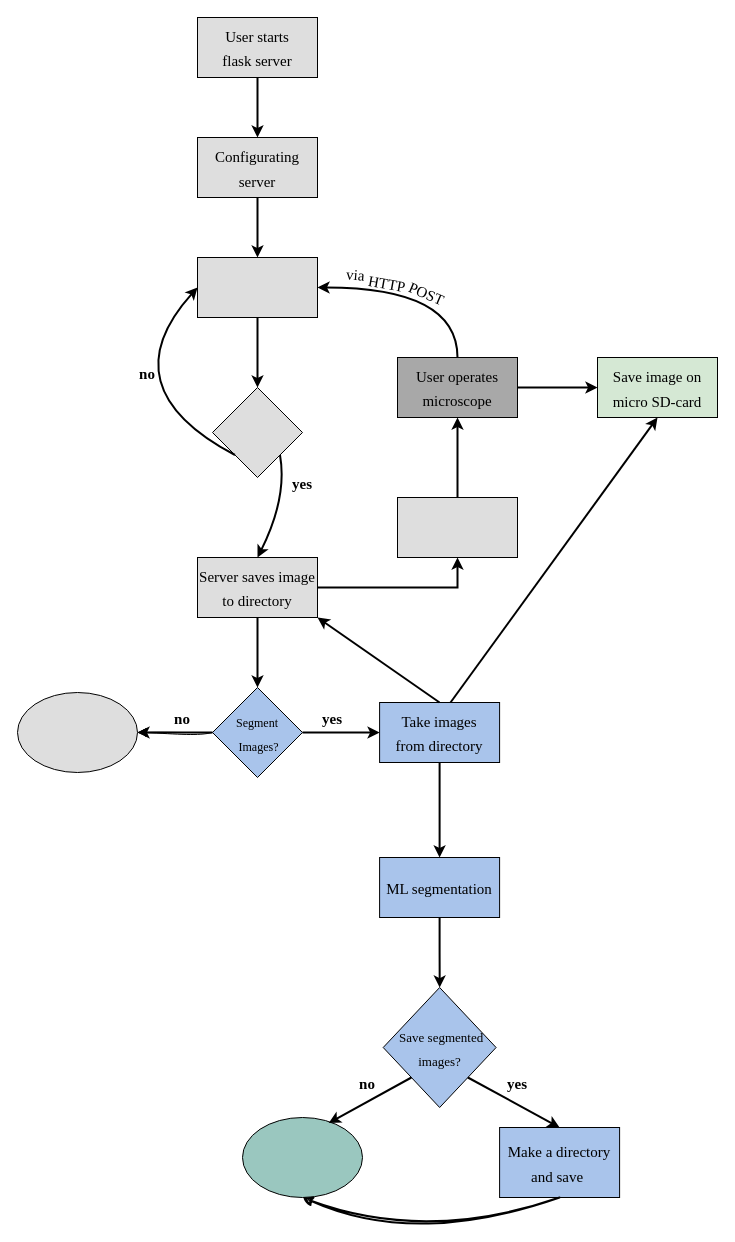
Some shapes in this 735 by 1242 pixel diagram are drawn without their labels. The centre of each missing label's shape, as x and y in pixels:
Generate filename?: the point at 257,432
Send feedback to the microscope: the point at 457,527
Server listening for incoming HTTP request: the point at 257,287
View raw images: the point at 77,732
View segmented images: the point at 302,1157
